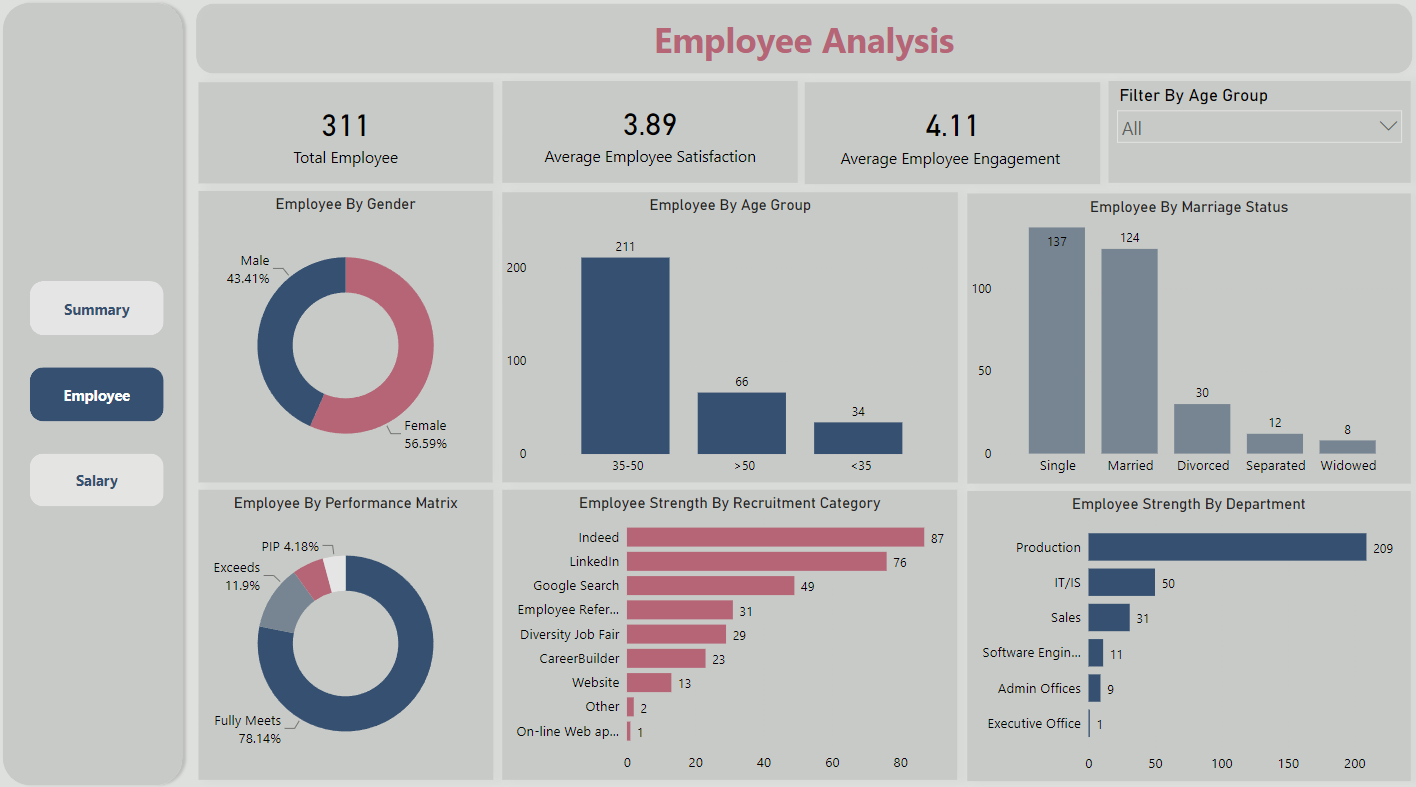

This screenshot's page, from the dashboard's own definition file:
{"tool":"powerbi","page":{"name":"Employee","canvas":[1700,950],"ordinal":1},"visuals":[{"type":"shape","box":[0,0,230.6,950.7],"z":0},{"type":"shape","box":[230,0,1470,101.2],"z":1000},{"type":"clusteredBarChart","title":"Employee Strength By Department","fields":{"Y":["CountNonNull(HRDataset.EmpID)"],"Category":["HRDataset.Department"]},"box":[1159.8,590.7,529.3,346.8],"z":2000},{"type":"clusteredBarChart","title":"Employee Strength By Recruitment Category","fields":{"Y":["CountNonNull(HRDataset.EmpID)"],"Category":["HRDataset.RecruitmentSource"]},"box":[605,590,543.3,346.7],"z":3000},{"type":"donutChart","title":"Employee By Gender","fields":{"Y":["CountNonNull(HRDataset.EmpID)"],"Category":["HRDataset.Sex"]},"box":[242,232.6,351.2,348],"z":4000},{"type":"columnChart","title":"Employee By Age Group","fields":{"Y":["CountNonNull(HRDataset.EmpID)"],"Category":["HRDataset.Age Group"]},"box":[604.3,234.1,544.2,346.5],"z":5000},{"type":"columnChart","title":"Employee By Marriage Status","fields":{"Y":["CountNonNull(HRDataset.EmpID)"],"Category":["HRDataset.MaritalDesc"]},"box":[1159.6,235.7,530,346.5],"z":6000},{"type":"card","title":"Employee By Age Group","fields":{"Values":["CountNonNull(HRDataset.EmpID)"]},"box":[242.2,102.9,351.7,121.1],"z":7000},{"type":"card","title":"Employee By Age Group","fields":{"Values":["Avg(HRDataset.EmpSatisfaction)"]},"box":[604.3,101.2,352.8,121.8],"z":8000},{"type":"slicer","title":"Employee By Age Group","fields":{"Values":["HRDataset.Age Group"]},"box":[1328.9,101.2,360.7,121.8],"z":9000},{"type":"card","title":"Employee By Age Group","fields":{"Values":["Avg(HRDataset.EngagementSurvey)"]},"box":[965,102.8,352.8,121.8],"z":10000},{"type":"donutChart","title":"Employee By Performance Matrix","fields":{"Y":["CountNonNull(HRDataset.EmpID)"],"Category":["HRDataset.PerformanceScore"]},"box":[241.7,590,351.7,346.7],"z":11000},{"type":"actionButton","box":[40,546.7,160,63.3],"z":12000},{"type":"actionButton","box":[40,443.3,160,65],"z":13000},{"type":"actionButton","box":[40,340,160,65],"z":14000}]}

Visuals, with their boxes in screenshot pixels (x1, y1, x2, y2), scaled from the page's 1700x950 canvas onto the 1416x787 screenshot:
shape: [x1=0, y1=0, x2=192, y2=786]
shape: [x1=192, y1=0, x2=1415, y2=84]
"Employee Strength By Department" clusteredBarChart: [x1=966, y1=489, x2=1407, y2=777]
"Employee Strength By Recruitment Category" clusteredBarChart: [x1=504, y1=489, x2=956, y2=776]
"Employee By Gender" donutChart: [x1=202, y1=193, x2=494, y2=481]
"Employee By Age Group" columnChart: [x1=503, y1=194, x2=957, y2=481]
"Employee By Marriage Status" columnChart: [x1=966, y1=195, x2=1407, y2=482]
"Employee By Age Group" card: [x1=202, y1=85, x2=495, y2=186]
"Employee By Age Group" card: [x1=503, y1=84, x2=797, y2=185]
"Employee By Age Group" slicer: [x1=1107, y1=84, x2=1407, y2=185]
"Employee By Age Group" card: [x1=804, y1=85, x2=1098, y2=186]
"Employee By Performance Matrix" donutChart: [x1=201, y1=489, x2=494, y2=776]
actionButton: [x1=33, y1=453, x2=167, y2=505]
actionButton: [x1=33, y1=367, x2=167, y2=421]
actionButton: [x1=33, y1=282, x2=167, y2=336]
